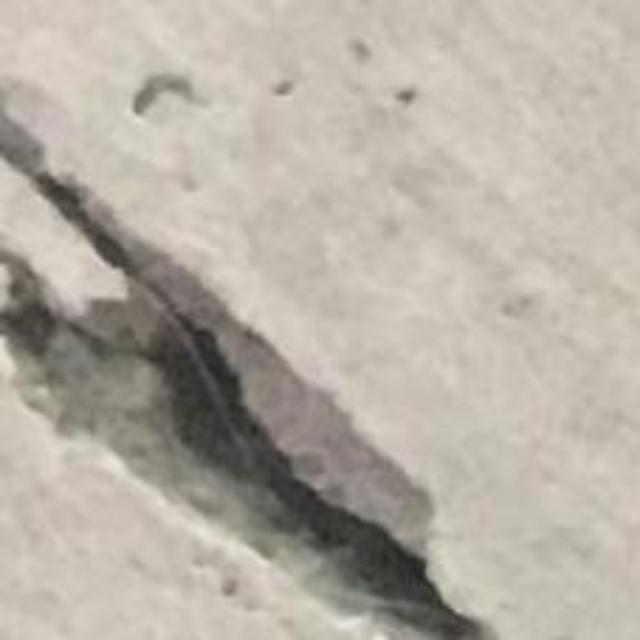crack: (0, 119, 490, 639)
